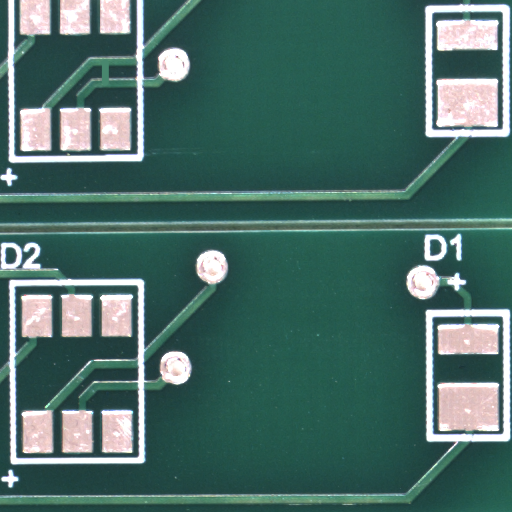Short: (106, 72, 118, 92)
